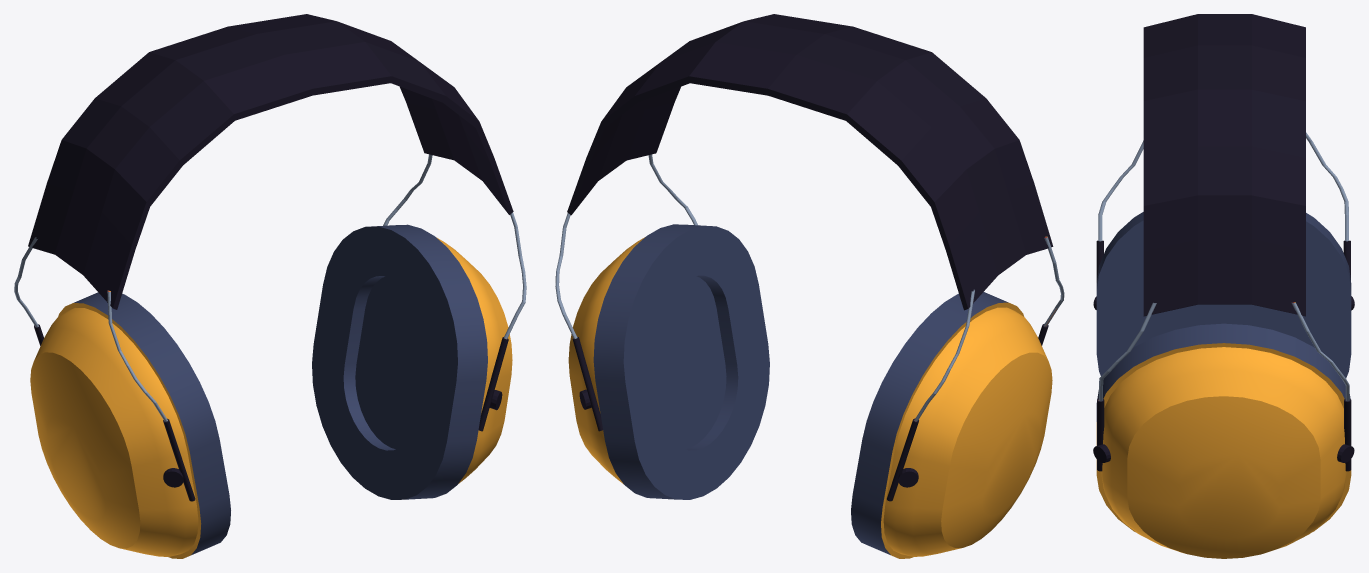
Rendered from Auricular.fbx.
The picture shows the model from 3 angles, left to right: view 1: azimuth 30°, elevation 25°; view 2: azimuth 150°, elevation 25°; view 3: azimuth 270°, elevation 25°; orthographic projection. The views are drawn at different scales.
Parts seen in each view (by area): view 1: Auricular; view 2: Auricular; view 3: Auricular.
Part boxes in pixels (left/top/right/bottom): Auricular: left=14, top=14, right=526, bottom=558; Auricular: left=555, top=14, right=1064, bottom=558; Auricular: left=1093, top=14, right=1354, bottom=558.
Bounding box in the file's own units: 17.36 × 19.04 × 10.
Materials: 1 (1 with a texture image).
